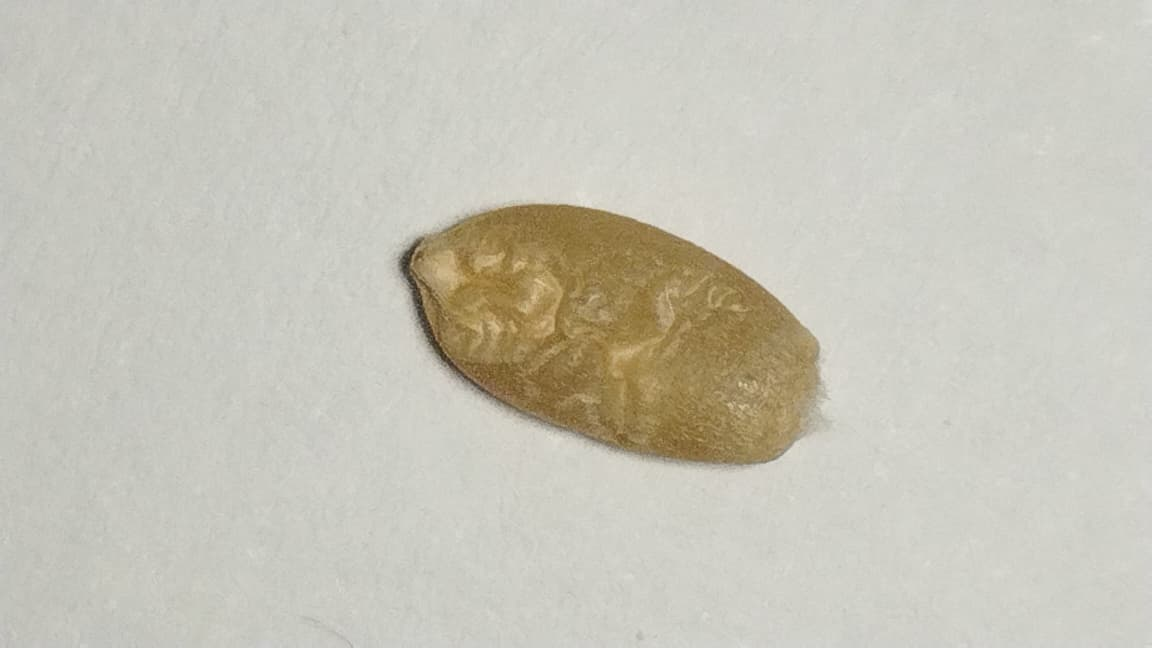healthy: (410, 204, 819, 462)
